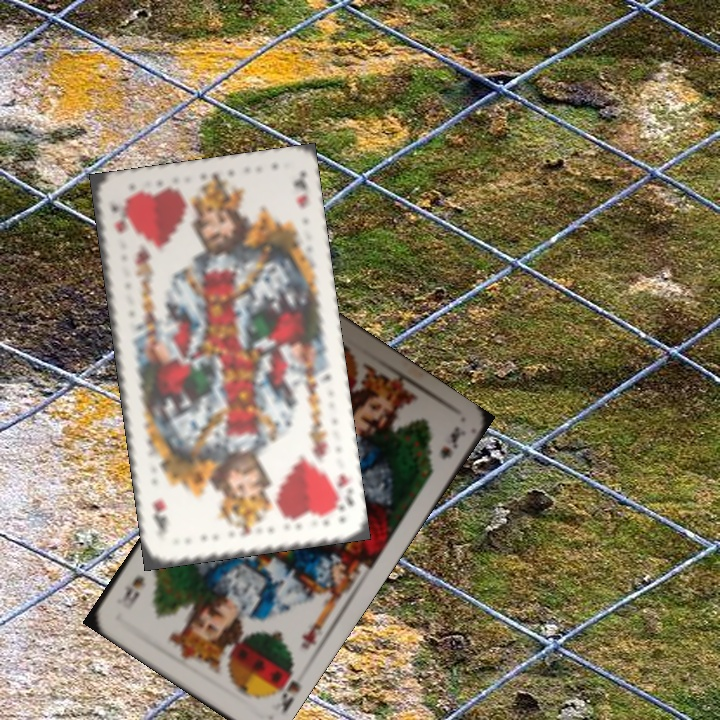HK: (326, 469, 357, 514), (107, 201, 130, 236)
SK: (272, 661, 304, 718)
